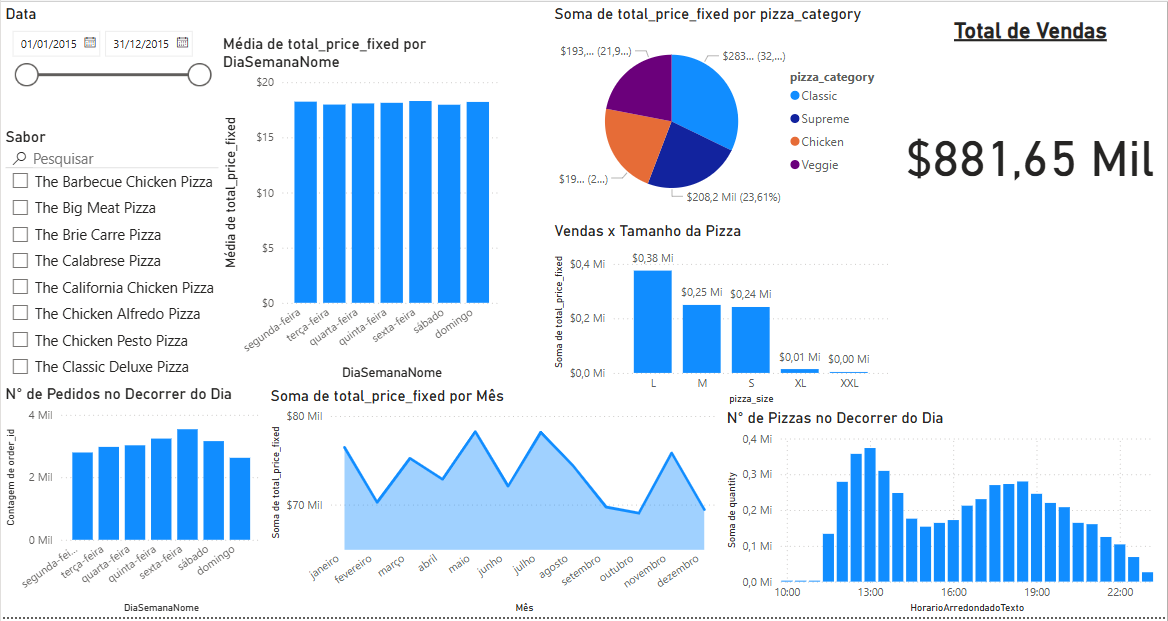

Layout of this report page (visuals, bound fields, positions):
{"tool":"powerbi","page":{"name":"Página 1","canvas":[1280,720],"ordinal":0},"visuals":[{"type":"slicer","title":"Data","fields":{"Values":["pizza_sales.order_date"]},"box":[0,47.7,239.3,129.4],"z":0},{"type":"pieChart","fields":{"Category":["pizza_sales.pizza_category"],"Y":["Sum(pizza_sales.total_price_fixed)"]},"box":[602.4,48,377.4,237.4],"z":1000},{"type":"lineChart","fields":{"Category":["pizza_sales.order_date.Variation.Hierarquia de datas.Mês","pizza_sales.order_date.Variation.Hierarquia de datas.Dia"],"Y":["Sum(pizza_sales.total_price_fixed)"]},"box":[290.9,466.6,500.9,253.9],"z":2000},{"type":"clusteredColumnChart","title":"Vendas x Tamanho da Pizza","fields":{"Category":["pizza_sales.pizza_size"],"Y":["Sum(pizza_sales.total_price_fixed)"]},"box":[602.4,285.4,377.4,205.8],"z":3000},{"type":"clusteredColumnChart","title":"N° de Pizzas no Decorrer do Dia","fields":{"Category":["pizza_sales.HorarioArredondadoTexto"],"Y":["Sum(pizza_sales.quantity)"]},"box":[791.8,491.3,488.5,229.2],"z":4000},{"type":"card","title":"Total de Vendas","fields":{"Values":["Sum(pizza_sales.total_price_fixed)"]},"box":[979.8,61.7,300.5,270.3],"z":5000},{"type":"slicer","title":"Sabor","fields":{"Values":["pizza_sales.pizza_name"]},"box":[0,182.9,290.8,283],"z":6000},{"type":"clusteredColumnChart","title":"N° de Pedidos no Decorrer do Dia","fields":{"Y":["Count(pizza_sales.order_id)"],"Category":["pizza_sales.DiaSemanaNome"]},"box":[0,465.2,290.9,255.2],"z":6001},{"type":"clusteredColumnChart","fields":{"Category":["pizza_sales.DiaSemanaNome"],"Y":["Avg(pizza_sales.total_price_fixed)"]},"box":[238.8,81,315.6,384.2],"z":6002}]}

Visuals, with their boxes on the page's 1280x720 design canvas (x1, y1, x2, y2). These are canvas units, not pixel positions in the 1168x621 screenshot, which may show the page scaled, cropped or inside an application window:
"Data" slicer: <region>0, 48, 239, 177</region>
pieChart - pizza_sales.pizza_category x Sum(pizza_sales.total_price_fixed): <region>602, 48, 980, 285</region>
lineChart - pizza_sales.order_date.Variation.Hierarquia de datas.Mês x pizza_sales.order_date.Variation.Hierarquia de datas.Dia: <region>291, 467, 792, 720</region>
"Vendas x Tamanho da Pizza" clusteredColumnChart: <region>602, 285, 980, 491</region>
"N° de Pizzas no Decorrer do Dia" clusteredColumnChart: <region>792, 491, 1280, 720</region>
"Total de Vendas" card: <region>980, 62, 1280, 332</region>
"Sabor" slicer: <region>0, 183, 291, 466</region>
"N° de Pedidos no Decorrer do Dia" clusteredColumnChart: <region>0, 465, 291, 720</region>
clusteredColumnChart - pizza_sales.DiaSemanaNome x Avg(pizza_sales.total_price_fixed): <region>239, 81, 554, 465</region>
